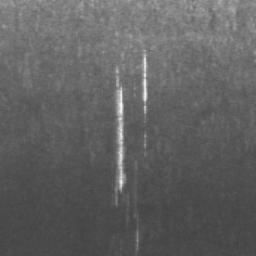Bright scratch: (114, 66, 126, 206), (143, 50, 147, 152)
